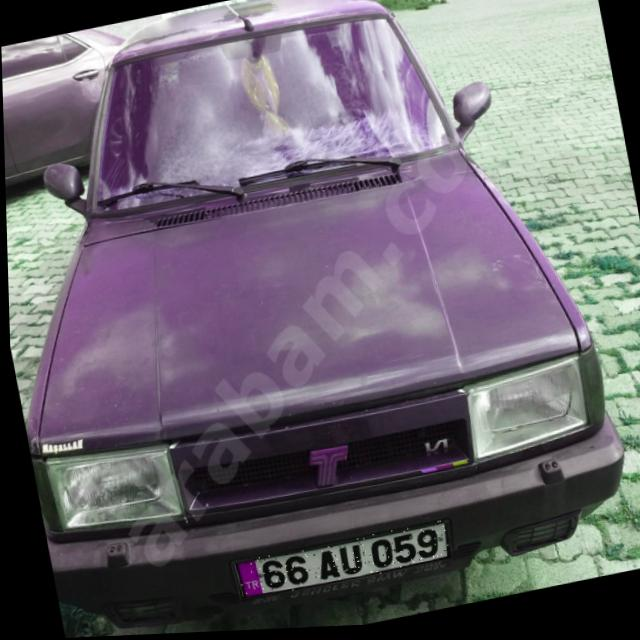license_plate: (230, 523, 449, 604)
